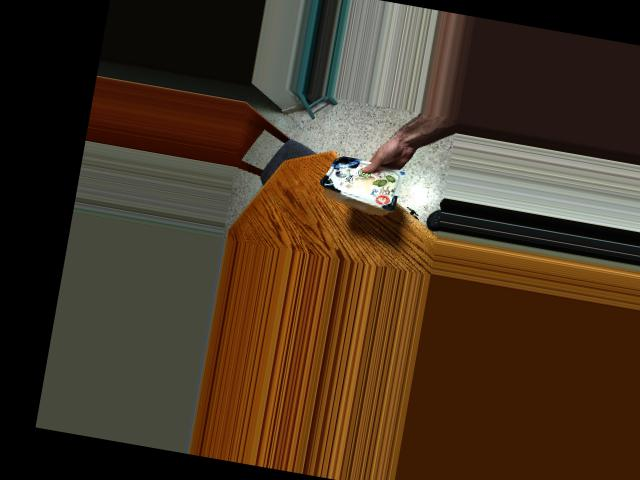cheese: (322, 145, 403, 213)
